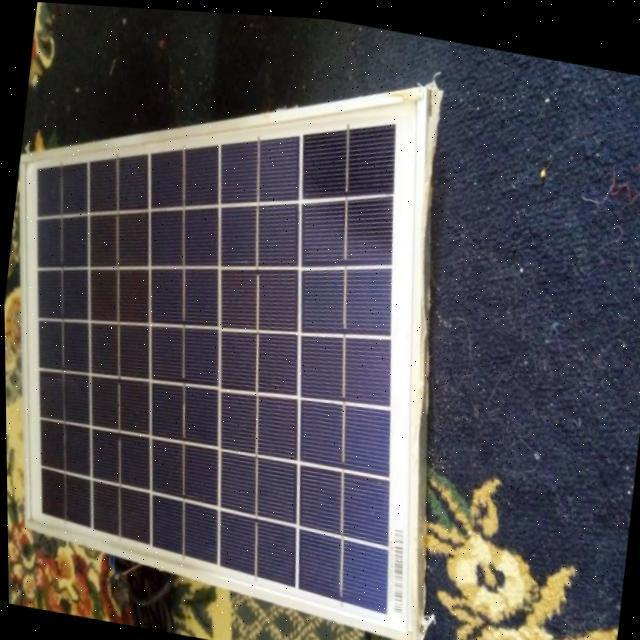Normal Solar Panel: (0, 17, 479, 635)
